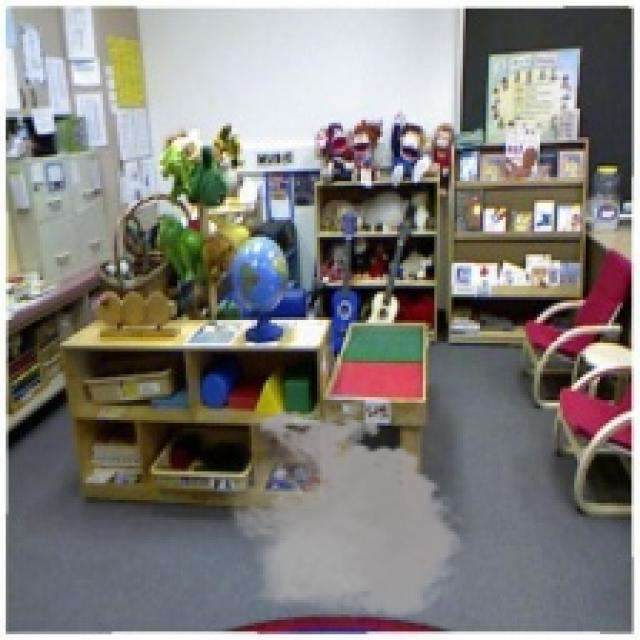Smoke: (217, 403, 472, 626)
